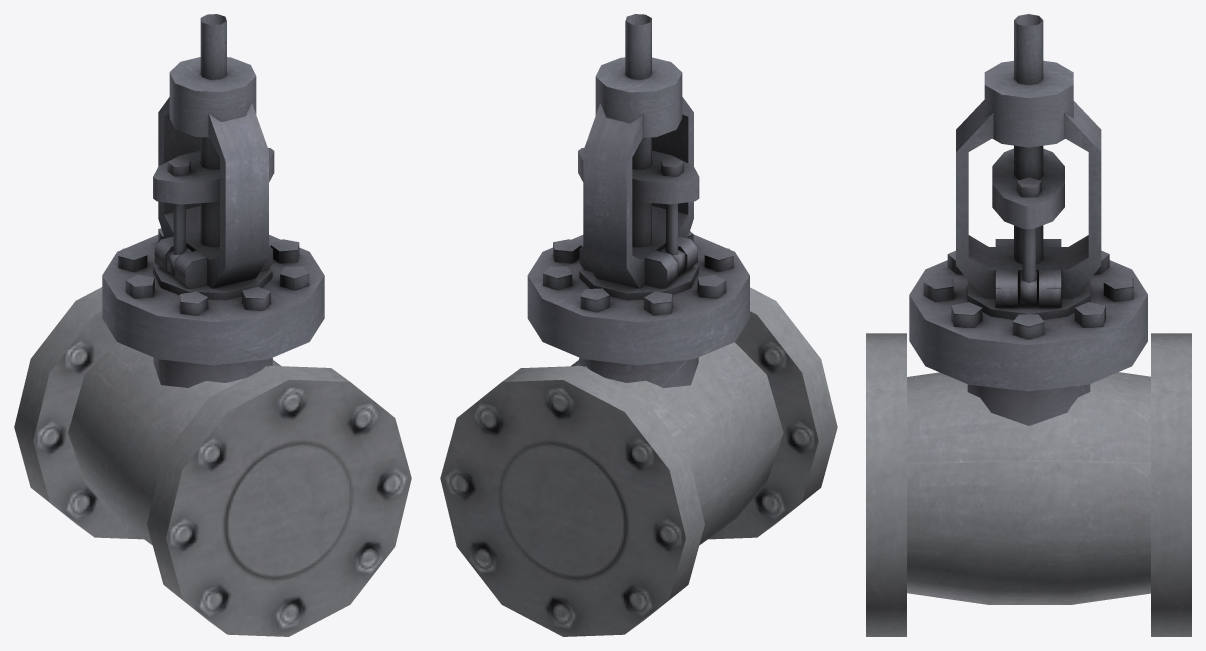
File: valve_03_pipe.FBX
3 renders of one model, left to right at view 1: azimuth 30°, elevation 25°; view 2: azimuth 150°, elevation 25°; view 3: azimuth 270°, elevation 25°, orthographic. The views are drawn at different scales.
Parts seen in each view (by area): view 1: Cylinder026; view 2: Cylinder026; view 3: Cylinder026.
Boxes of the visible parts, x1,y1,x2,y2 form: Cylinder026: (14,14,411,636); Cylinder026: (440,14,837,636); Cylinder026: (866,14,1191,636).
Bounding box in the file's own units: 29.97 × 65.46 × 32.04.
